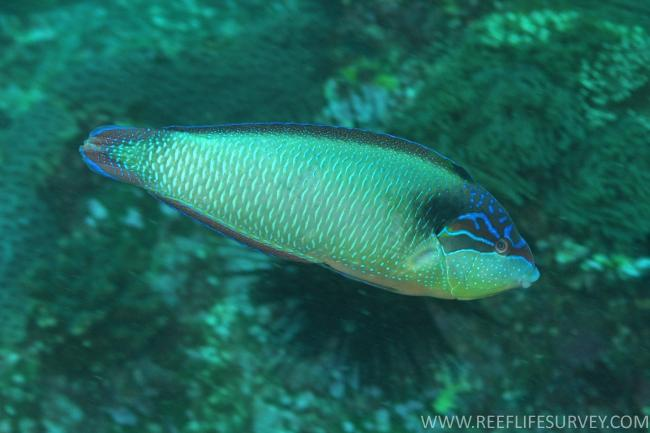fish: (80, 123, 540, 301)
